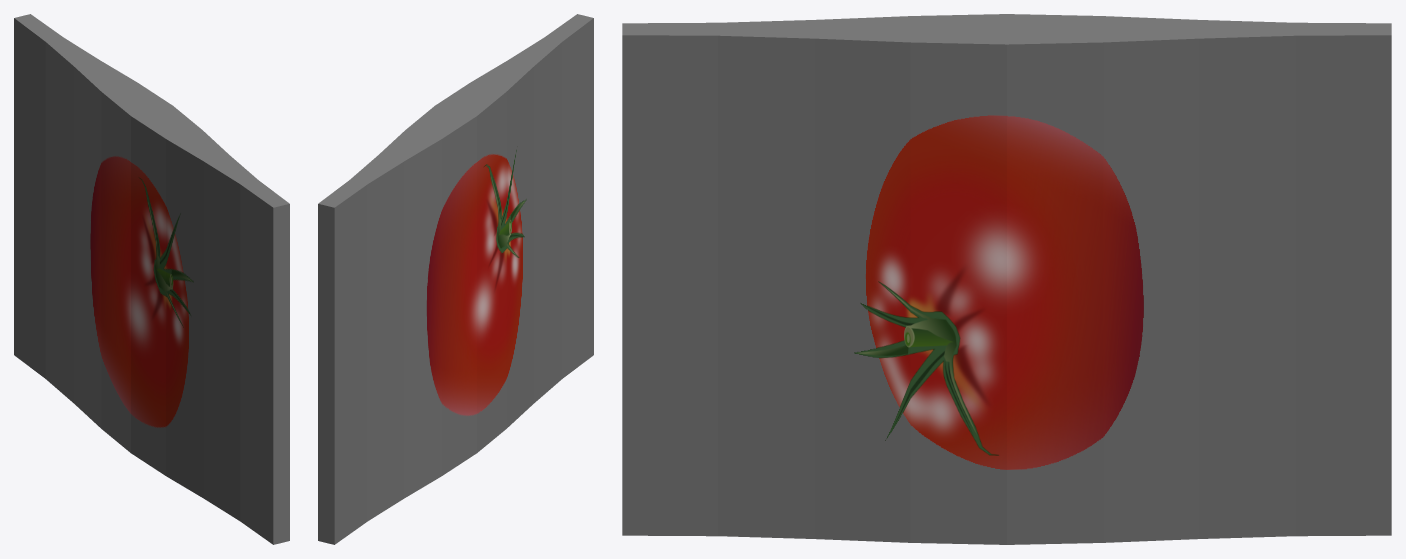
Rendered from tomato_seed.fbx.
The picture shows the model from 3 angles, left to right: view 1: azimuth 30°, elevation 25°; view 2: azimuth 150°, elevation 25°; view 3: azimuth 270°, elevation 25°; orthographic projection. The views are drawn at different scales.
Visible parts, largest first — view 1: TomatoSeed; view 2: TomatoSeed; view 3: TomatoSeed.
Part boxes in pixels (x1,y1,x2,y2): TomatoSeed: (14,14,289,544); TomatoSeed: (318,14,593,544); TomatoSeed: (622,14,1391,544).
Bounding box in the file's own units: 0.6575 × 5.02 × 7.
